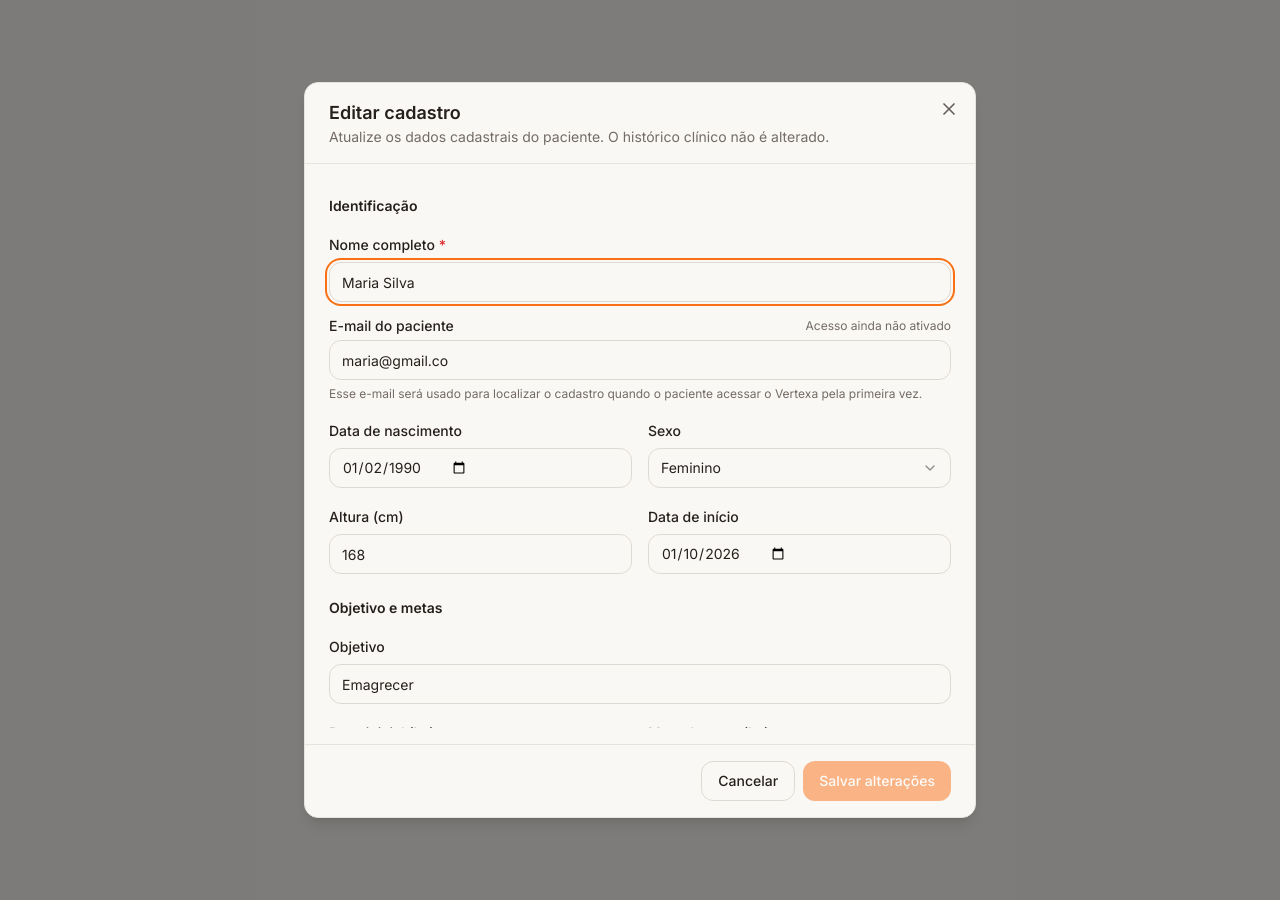
it: PatientEditDialog — e-mail SEM conta de acesso › Salvar fica desabilitado até haver mudança (dirty)
Expected: the button "Salvar alterações" is disabled, [803,761,951,801]
Type "!" into the field labelled "Objetivo" at (640, 684), box [329,664,951,704]
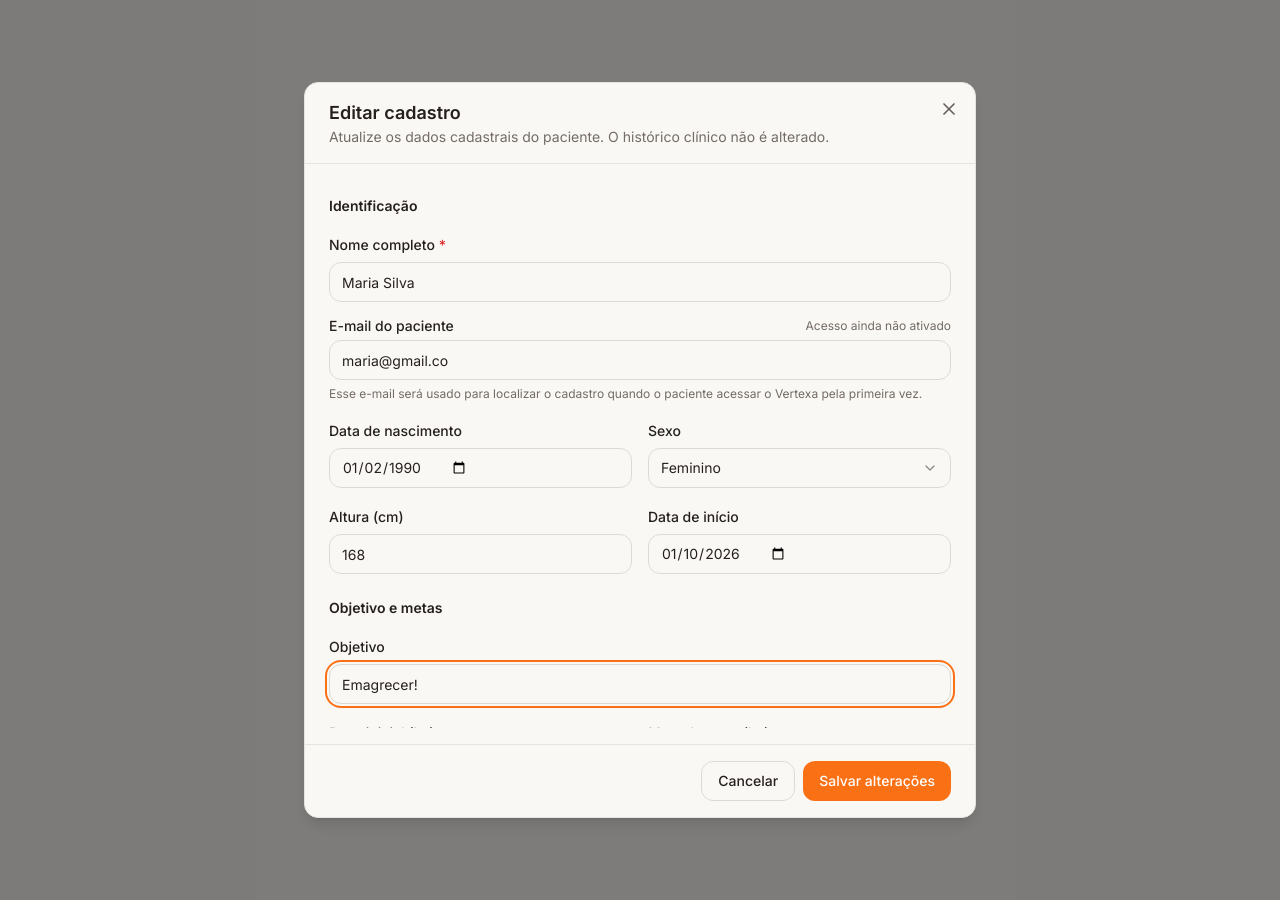
Expected: the button "Salvar alterações" is enabled, [803,761,951,801]
